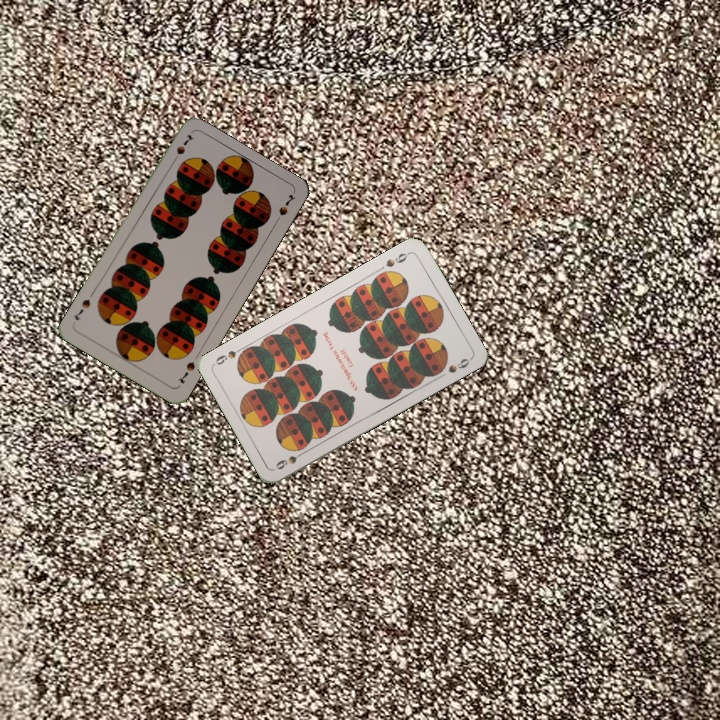S7: (168, 130, 196, 166), (174, 357, 197, 386)
S9: (271, 447, 309, 472), (382, 248, 412, 270)
